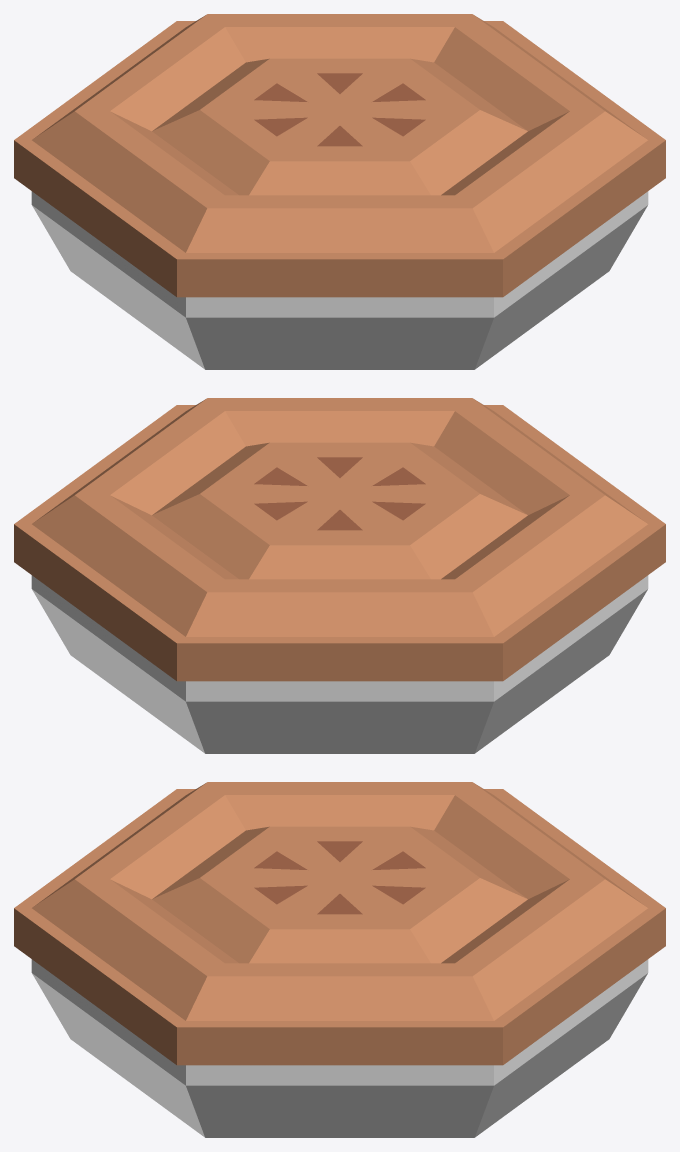
Rendered from mincemeatPie.obj.
The picture shows the model from 3 angles, top to bottom: view 1: azimuth 30°, elevation 25°; view 2: azimuth 150°, elevation 25°; view 3: azimuth 270°, elevation 25°; orthographic projection.
Visible parts, largest first — view 1: mincemeatPie; view 2: mincemeatPie; view 3: mincemeatPie.
Boxes of the visible parts, box(x1,y1,x2,y2) form: mincemeatPie: box(14, 14, 665, 369); mincemeatPie: box(14, 398, 665, 753); mincemeatPie: box(14, 782, 665, 1137).
Bounding box in the file's own units: 0.5309 × 0.1673 × 0.6131.
